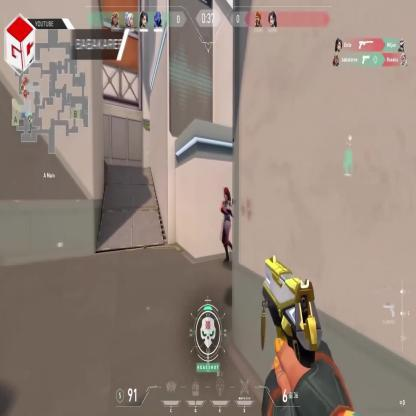enemy: (219, 186, 238, 268)
enemy_head: (222, 188, 230, 202)
